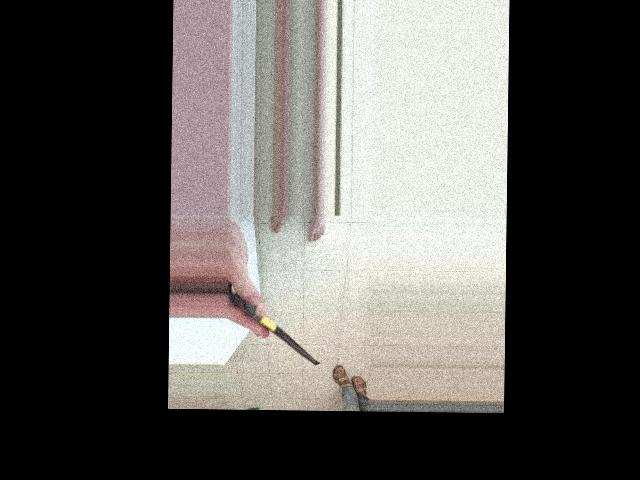chocolate: (264, 264, 353, 361)
